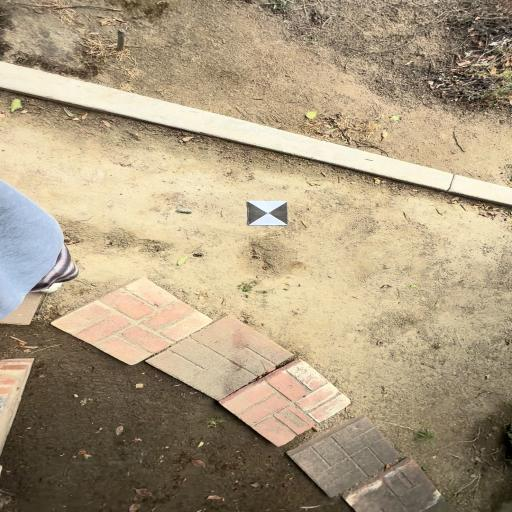target: (247, 201, 287, 225)
